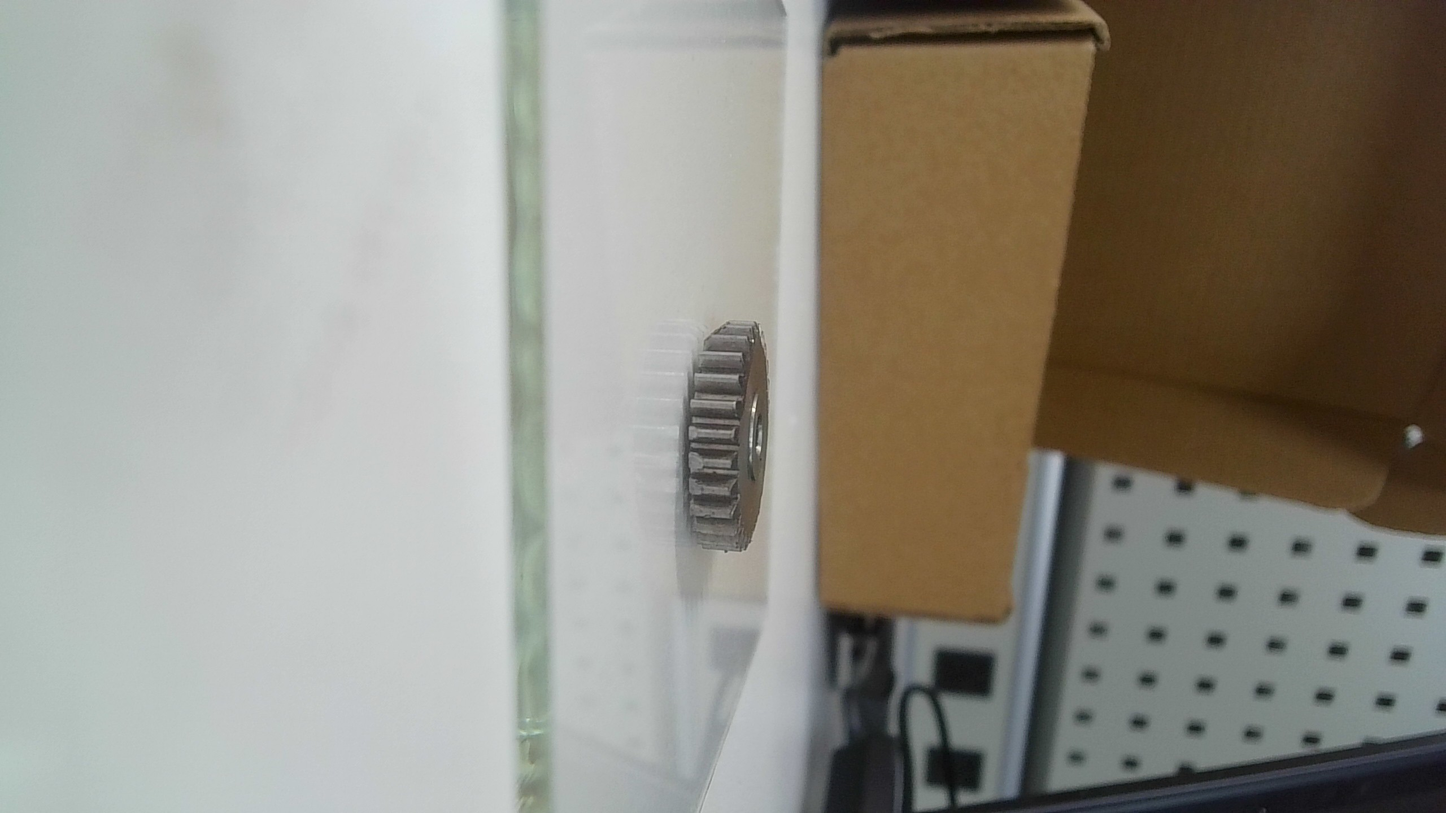gear: (675, 309, 774, 555)
